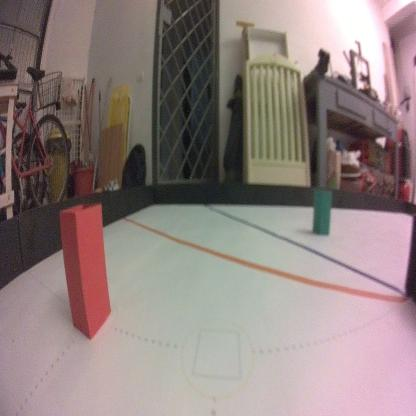green: (310, 182, 332, 235)
red: (57, 199, 111, 341)
